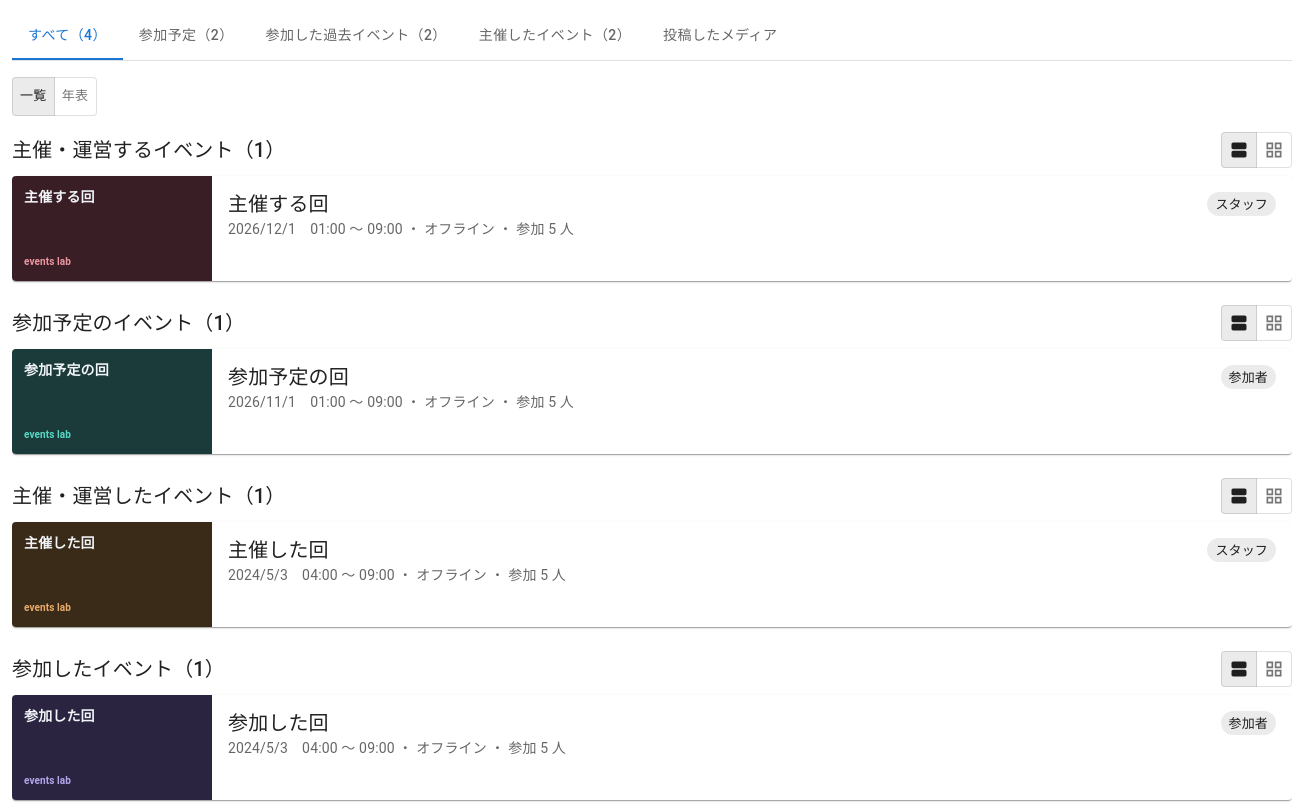
Test: プロフィールのタブ (#407) › 既定は「すべて」タブで、タブ見出しに件数が付く
The width and height of the screenshot is (1304, 812).
Expected: the tab "参加した過去イベント（2）" is shown, [250,12,463,60]
Expected: the tab "主催したイベント（2）" is shown, [463,12,647,60]
Click the tab "参加予定（2）" at x=186, y=36, box [123,12,250,60]
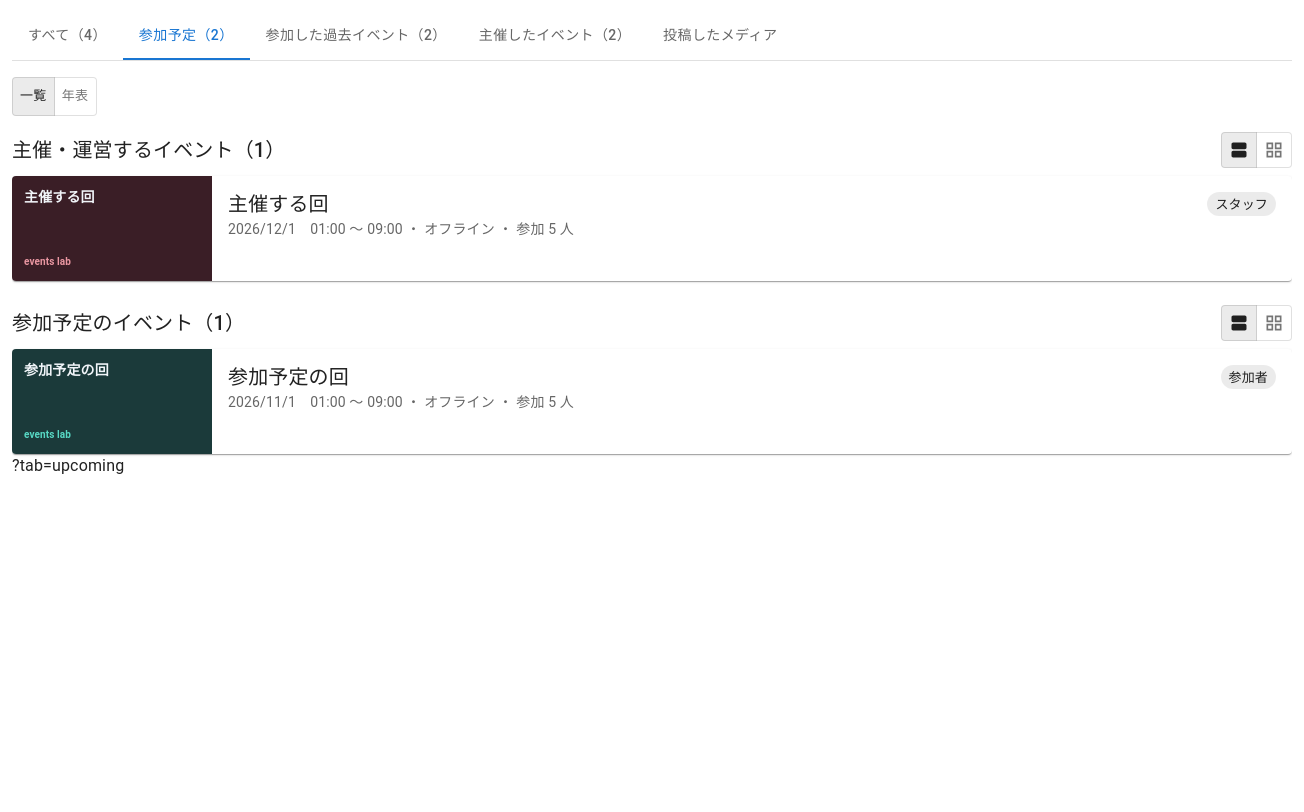
Expected: the text "参加予定の回" is shown, [24,362,109,378]
Now the link "参加した回" is gone
Now the link "主催した回" is gone
